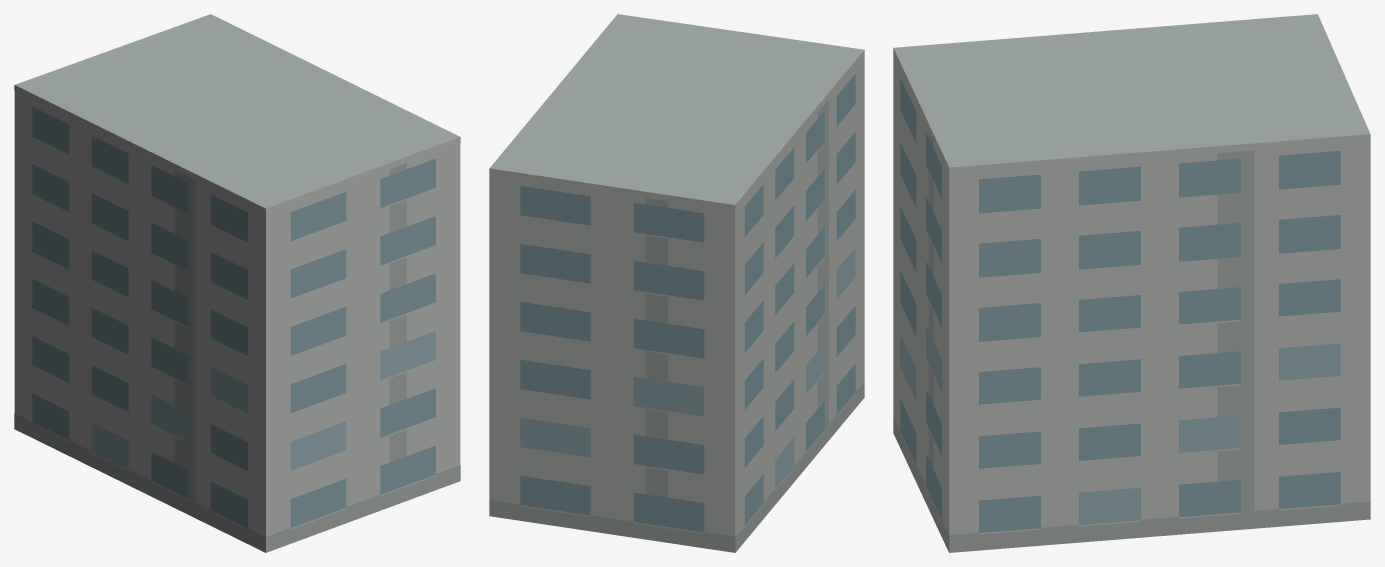
The model's file is survey-upis-32884546.glb.
3 views of the same model, side by side, from view 1: azimuth 30°, elevation 25°; view 2: azimuth 150°, elevation 25°; view 3: azimuth 270°, elevation 25° (orthographic). The views are drawn at different scales.
Visible parts, largest first — view 1: survey-upis-32884546.tmp; view 2: survey-upis-32884546.tmp; view 3: survey-upis-32884546.tmp.
Boxes of the visible parts, x1=… form: survey-upis-32884546.tmp: x1=14, y1=14, x2=460, y2=552; survey-upis-32884546.tmp: x1=489, y1=14, x2=864, y2=552; survey-upis-32884546.tmp: x1=893, y1=14, x2=1370, y2=552.
Size of the model in its own units: 11.55 by 13.5 by 15.16.
